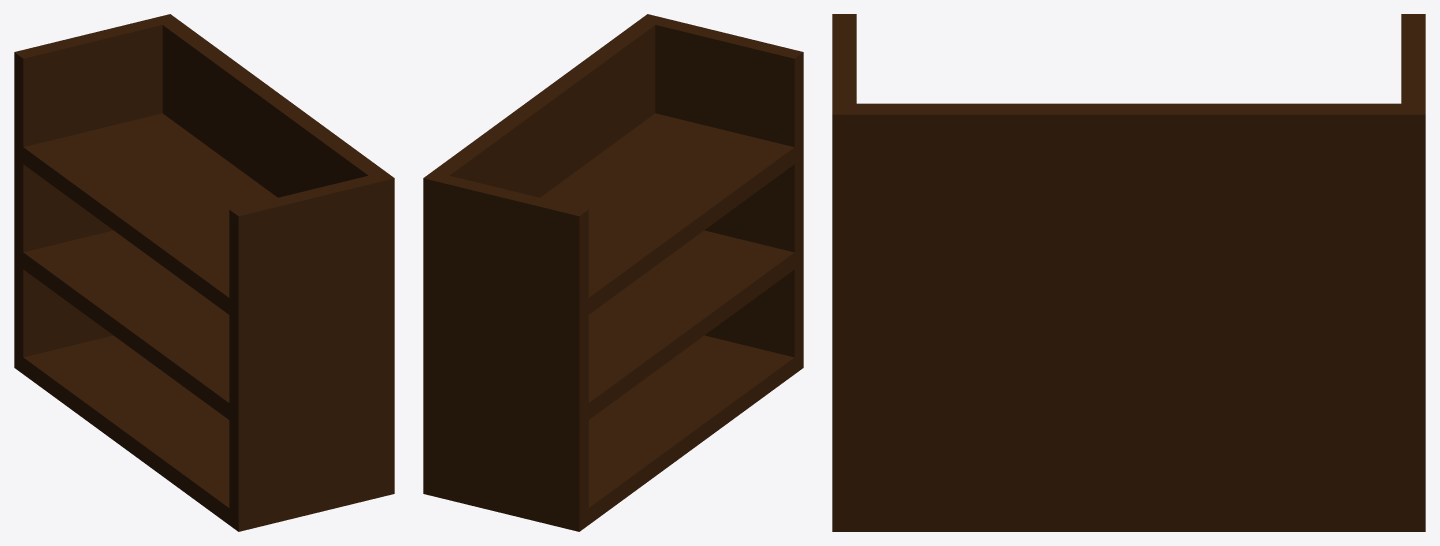
File: EstanteriaEscritorio.FBX
3 views of the same model, side by side, from view 1: azimuth 30°, elevation 25°; view 2: azimuth 150°, elevation 25°; view 3: azimuth 270°, elevation 25° (orthographic). The views are drawn at different scales.
Visible parts, largest first — view 1: EstanteriaEscritorio; view 2: EstanteriaEscritorio; view 3: EstanteriaEscritorio.
Boxes of the visible parts, x1,y1,x2,y2 form: EstanteriaEscritorio: (14, 14, 394, 531); EstanteriaEscritorio: (423, 14, 803, 531); EstanteriaEscritorio: (832, 14, 1425, 531).
Size of the model in its own units: 1.04 by 2.01 by 2.59.
